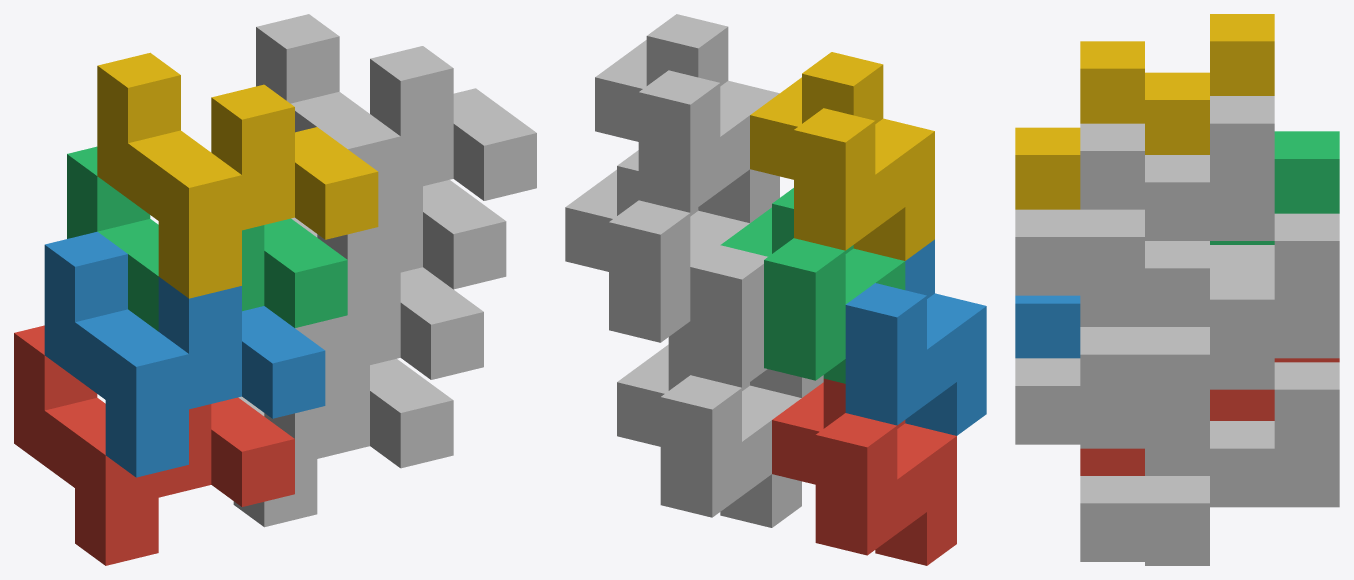
The model's file is tiling.obj.
3 views of the same model, side by side, from view 1: azimuth 30°, elevation 25°; view 2: azimuth 150°, elevation 25°; view 3: azimuth 270°, elevation 25° (orthographic). The views are drawn at different scales.
Parts seen in each view (by area): view 1: copy_1_domain_4, copy_1_domain_2, copy_1_domain_8, copy_1_domain_1, copy_1_domain_6, copy_1_domain_3, copy_1_domain_5, copy_1_domain_7; view 2: copy_1_domain_4, copy_1_domain_8, copy_1_domain_1, copy_1_domain_5, copy_1_domain_2, copy_1_domain_7, copy_1_domain_3, copy_1_domain_6; view 3: copy_1_domain_7, copy_1_domain_8, copy_1_domain_5, copy_1_domain_4, copy_1_domain_6, copy_1_domain_3, copy_1_domain_1, copy_1_domain_2.
Boxes of the visible parts, bbox=[...] form: copy_1_domain_4: bbox=[97, 52, 378, 298]; copy_1_domain_2: bbox=[44, 231, 325, 477]; copy_1_domain_8: bbox=[256, 14, 536, 259]; copy_1_domain_1: bbox=[14, 325, 294, 565]; copy_1_domain_6: bbox=[264, 247, 483, 438]; copy_1_domain_3: bbox=[67, 146, 347, 331]; copy_1_domain_5: bbox=[233, 358, 453, 527]; copy_1_domain_7: bbox=[291, 180, 506, 289]; copy_1_domain_4: bbox=[750, 52, 934, 260]; copy_1_domain_8: bbox=[595, 14, 779, 222]; copy_1_domain_1: bbox=[772, 378, 956, 565]; copy_1_domain_5: bbox=[617, 341, 801, 527]; copy_1_domain_2: bbox=[845, 239, 986, 435]; copy_1_domain_7: bbox=[565, 150, 749, 345]; copy_1_domain_3: bbox=[720, 188, 905, 383]; copy_1_domain_6: bbox=[690, 245, 823, 397]; copy_1_domain_7: bbox=[1080, 213, 1339, 417]; copy_1_domain_8: bbox=[1015, 96, 1274, 299]; copy_1_domain_5: bbox=[1080, 362, 1339, 565]; copy_1_domain_4: bbox=[1015, 14, 1274, 209]; copy_1_domain_6: bbox=[1015, 245, 1274, 448]; copy_1_domain_3: bbox=[1210, 131, 1339, 244]; copy_1_domain_1: bbox=[1080, 358, 1339, 475]; copy_1_domain_2: bbox=[1015, 295, 1080, 358].
Size of the model in its own units: 7 by 8 by 5.
